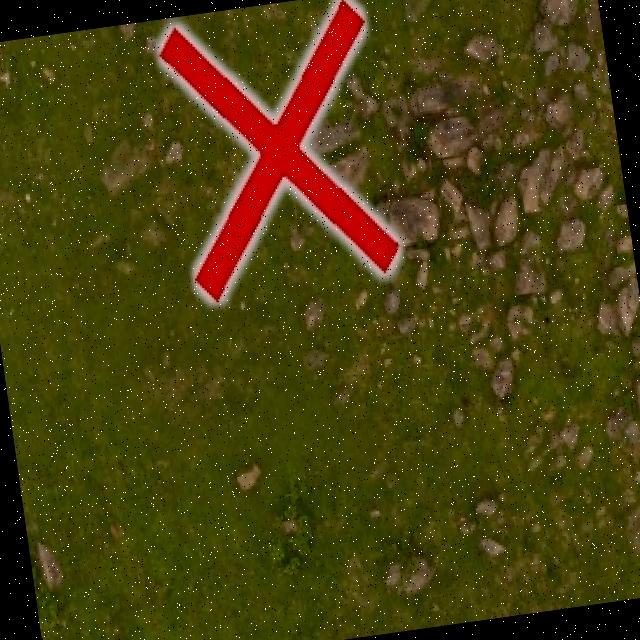x_marker: (156, 0, 401, 301)
